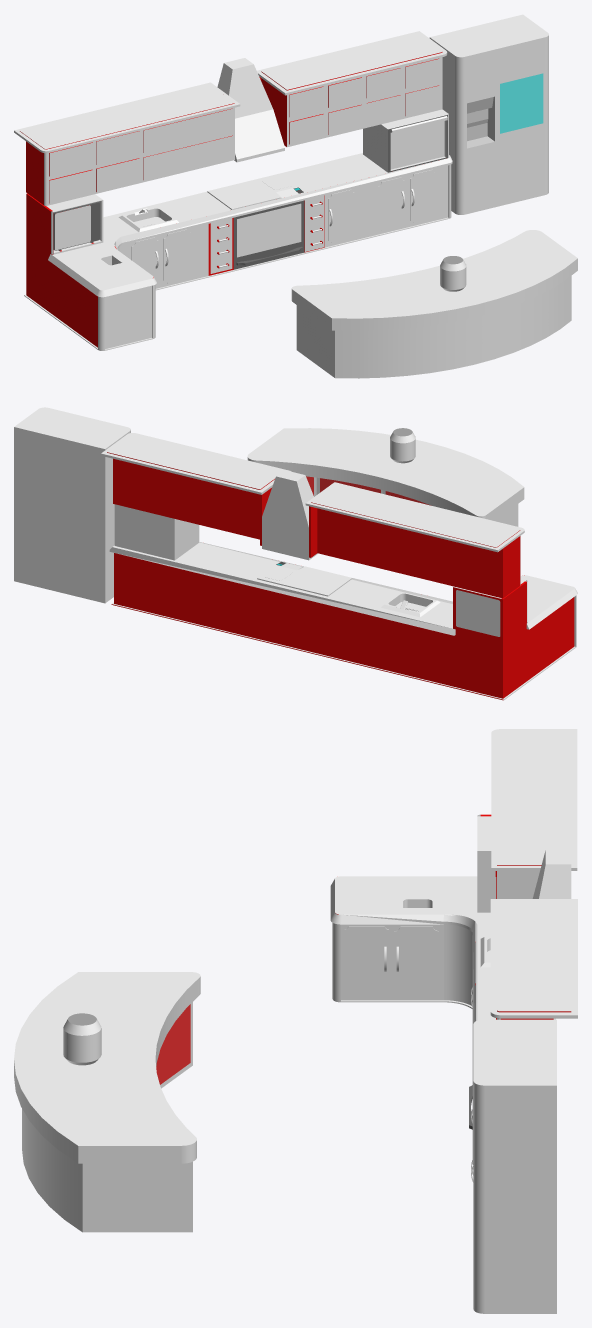
3 views of the same model, one above another, from view 1: azimuth 30°, elevation 25°; view 2: azimuth 150°, elevation 25°; view 3: azimuth 270°, elevation 25° (orthographic). The views are drawn at different scales.
Visible parts, largest first — view 1: Layer0_001; view 2: Layer0_001; view 3: Layer0_001.
Boxes of the visible parts, box(x1,y1,x2,y2) form: Layer0_001: box(14, 14, 577, 378); Layer0_001: box(14, 407, 577, 700); Layer0_001: box(14, 729, 577, 1313).
Size of the model in its own units: 7630 by 2589 by 5132.
